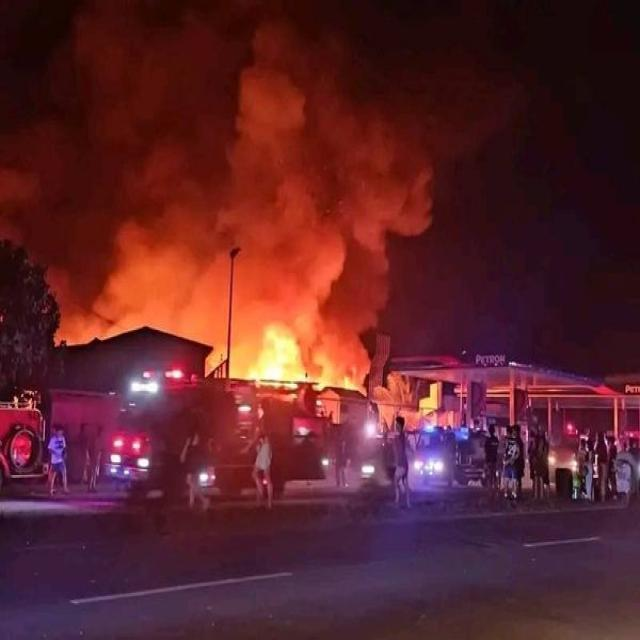Fire: (248, 323, 374, 387)
Smoke: (26, 4, 562, 210), (36, 200, 258, 342), (238, 212, 422, 332)
